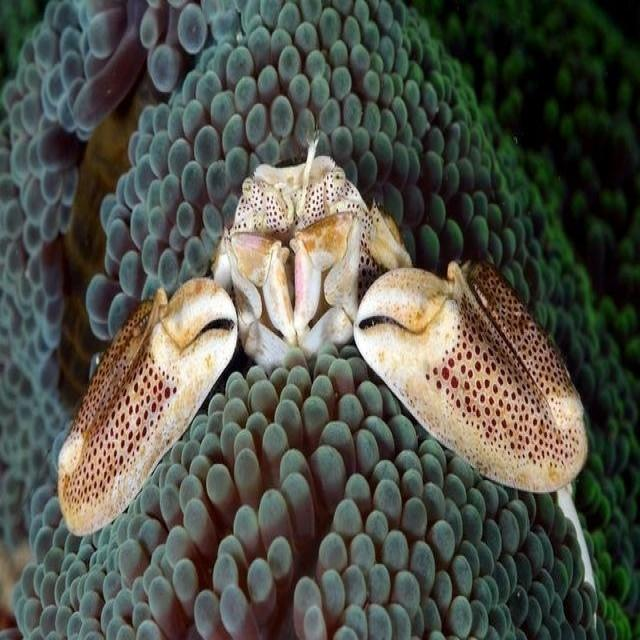reefs: (0, 1, 639, 639), (58, 136, 588, 535), (11, 347, 599, 639)
